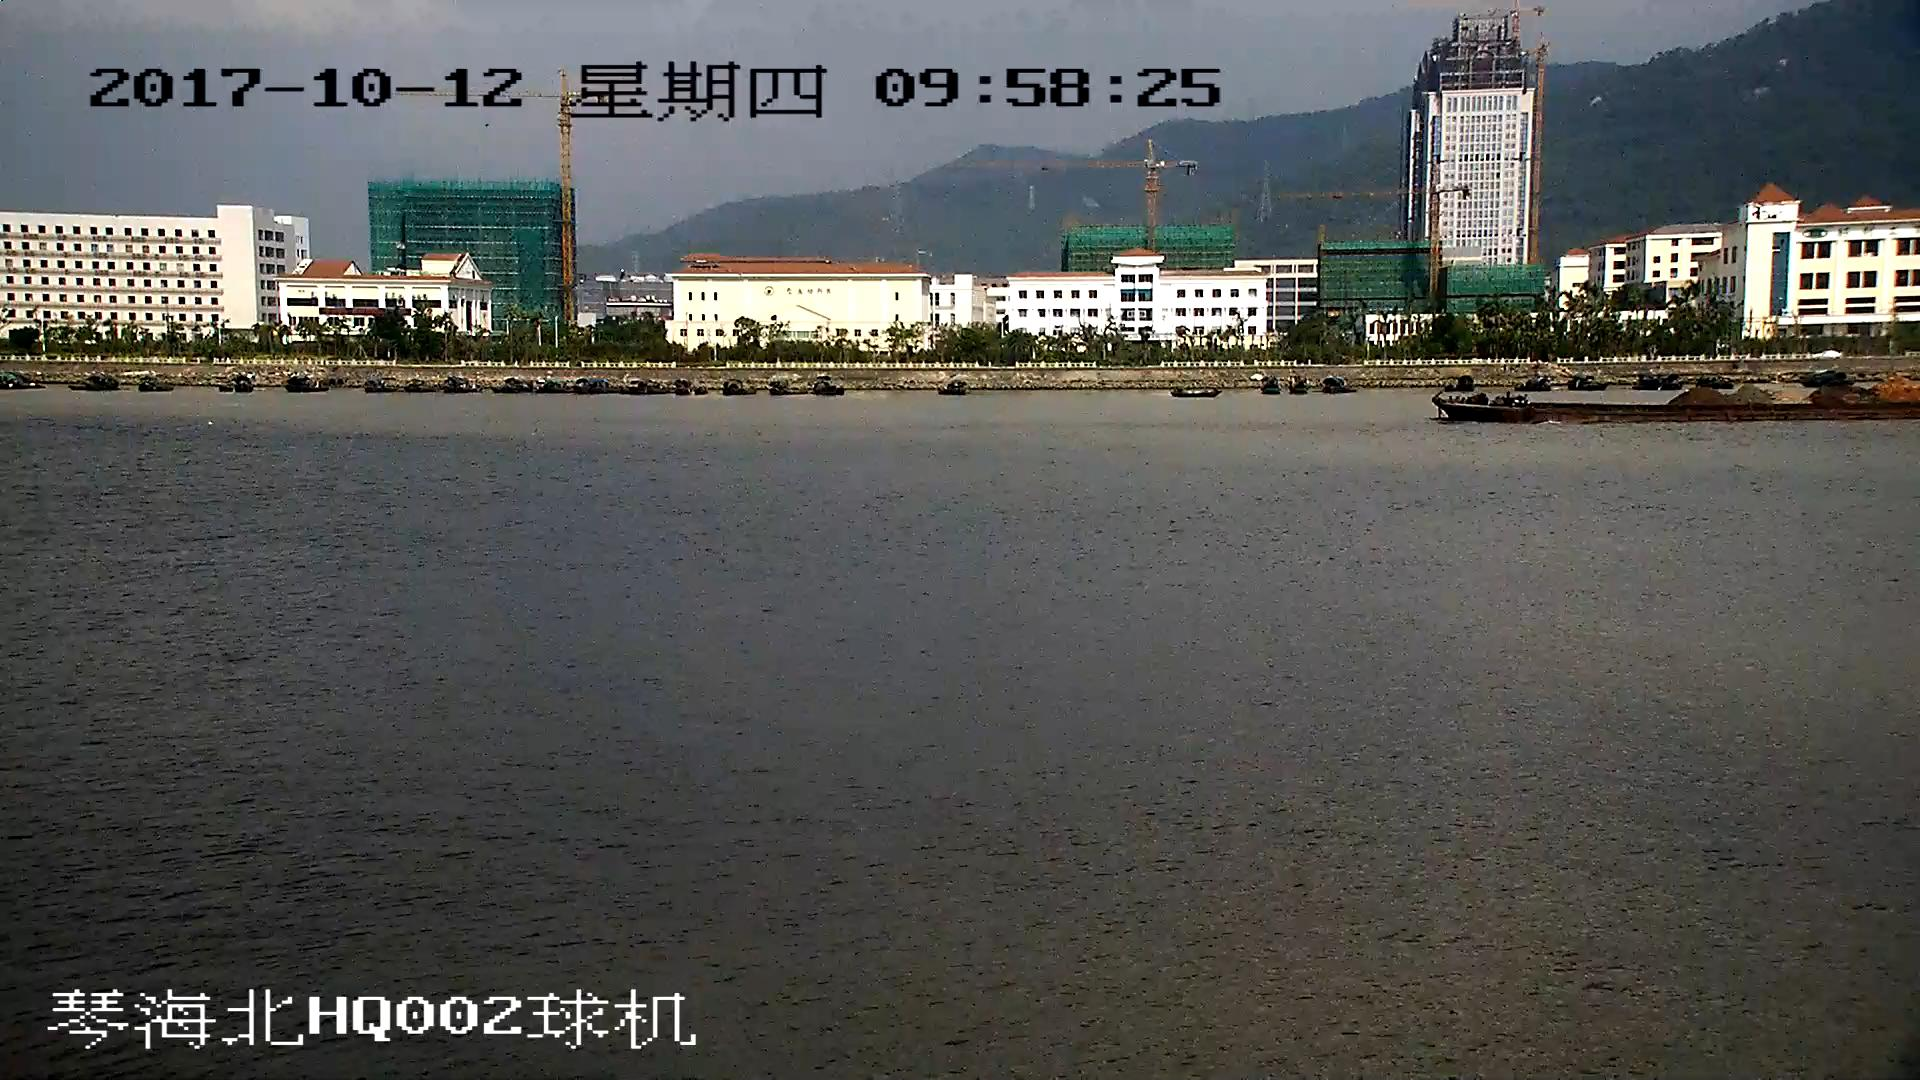ore carrier: (1443, 379, 1920, 422)
